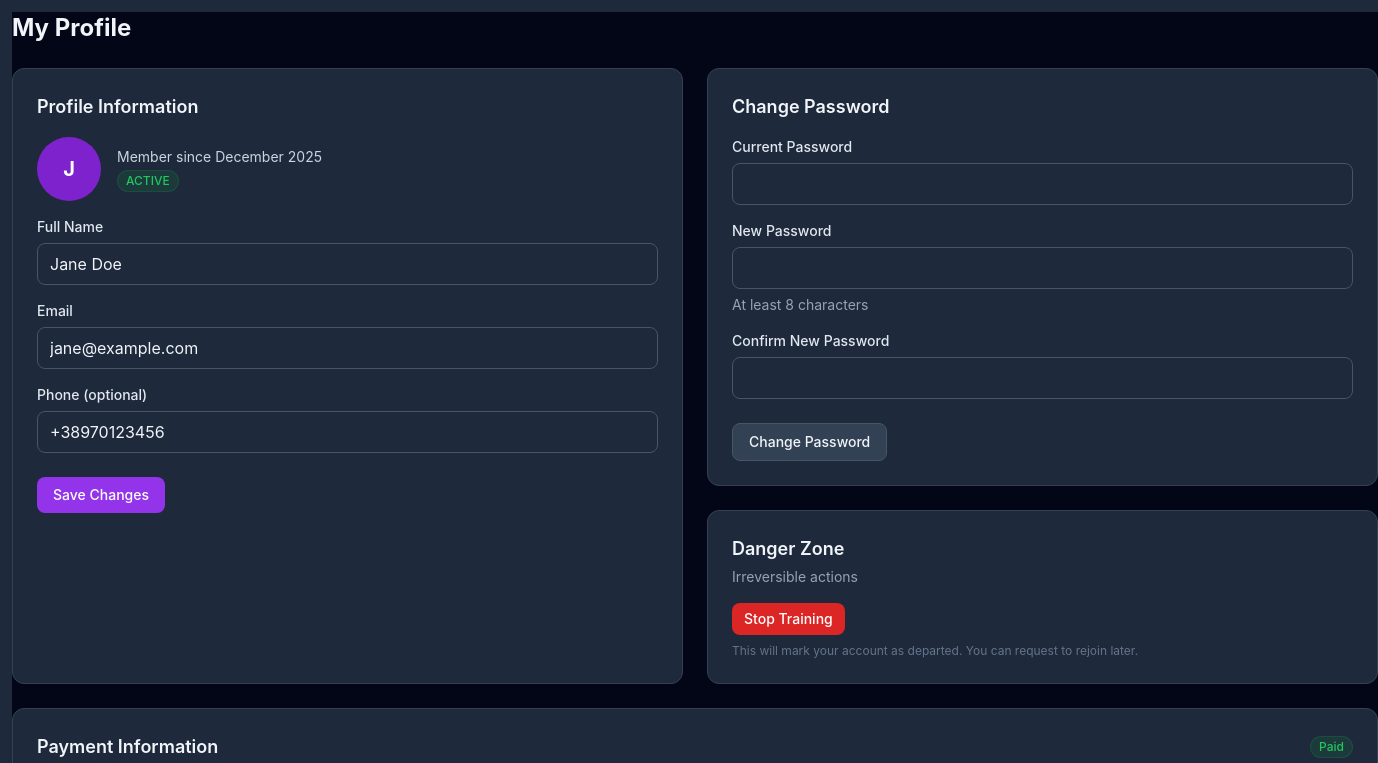
Test: ProfileClient › password change form › shows validation error when current password is empty
This screenshot has width=1378, height=763.
Step 1. Type "newpassword1" into the password field labelled "New Password" → (1042, 268), box top-left (732, 247), bottom-right (1353, 289)
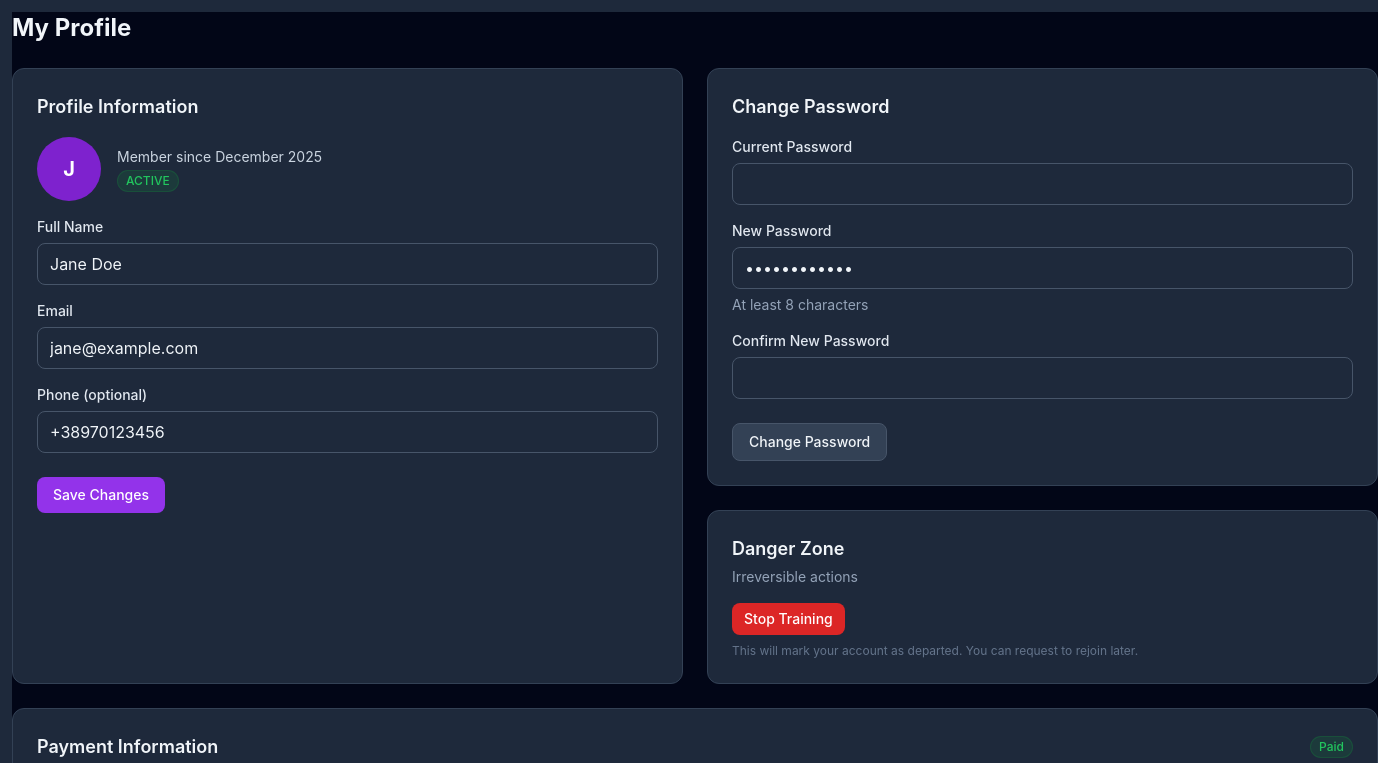
Step 2. Type "newpassword1" into the password field labelled "Confirm New Password" → (1042, 378), box top-left (732, 357), bottom-right (1353, 399)
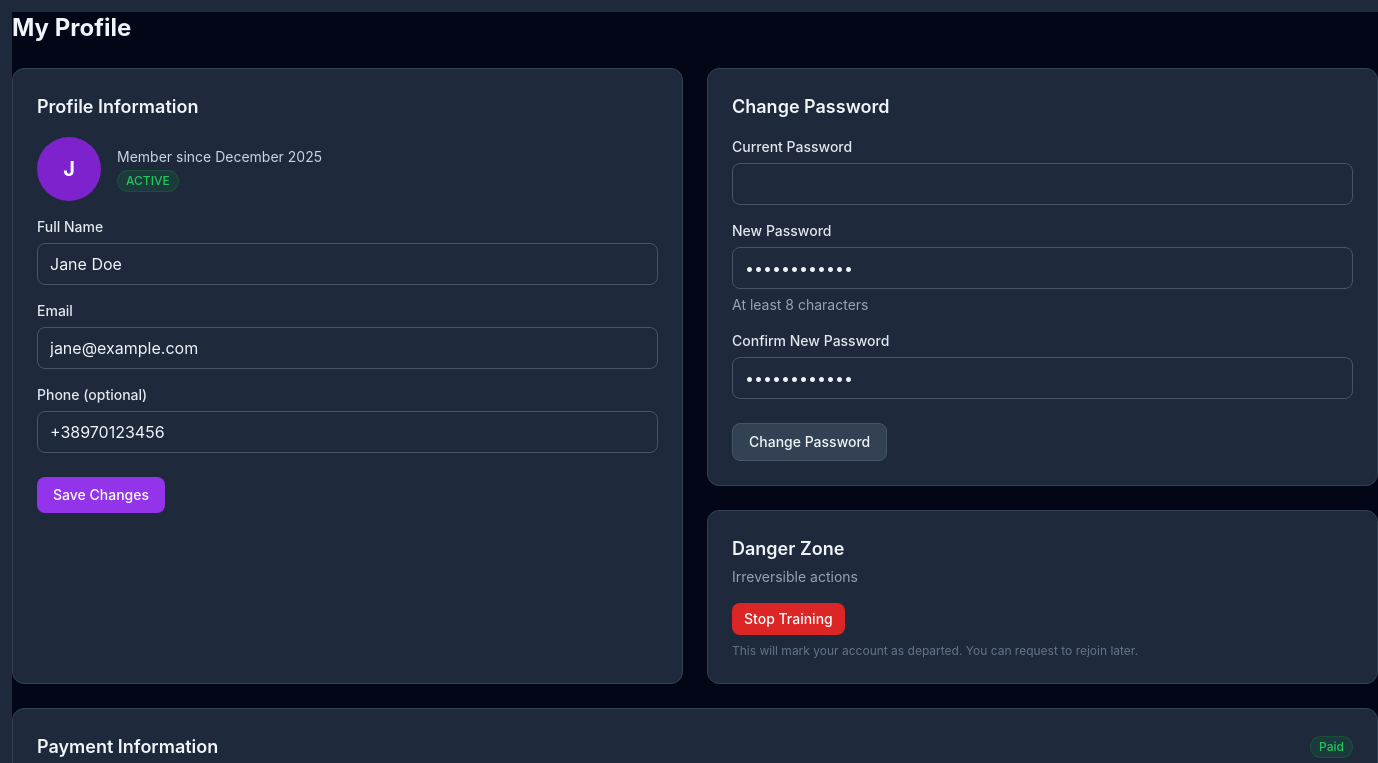
Step 3. Click the button "Change Password" → (810, 442), box top-left (732, 423), bottom-right (887, 461)
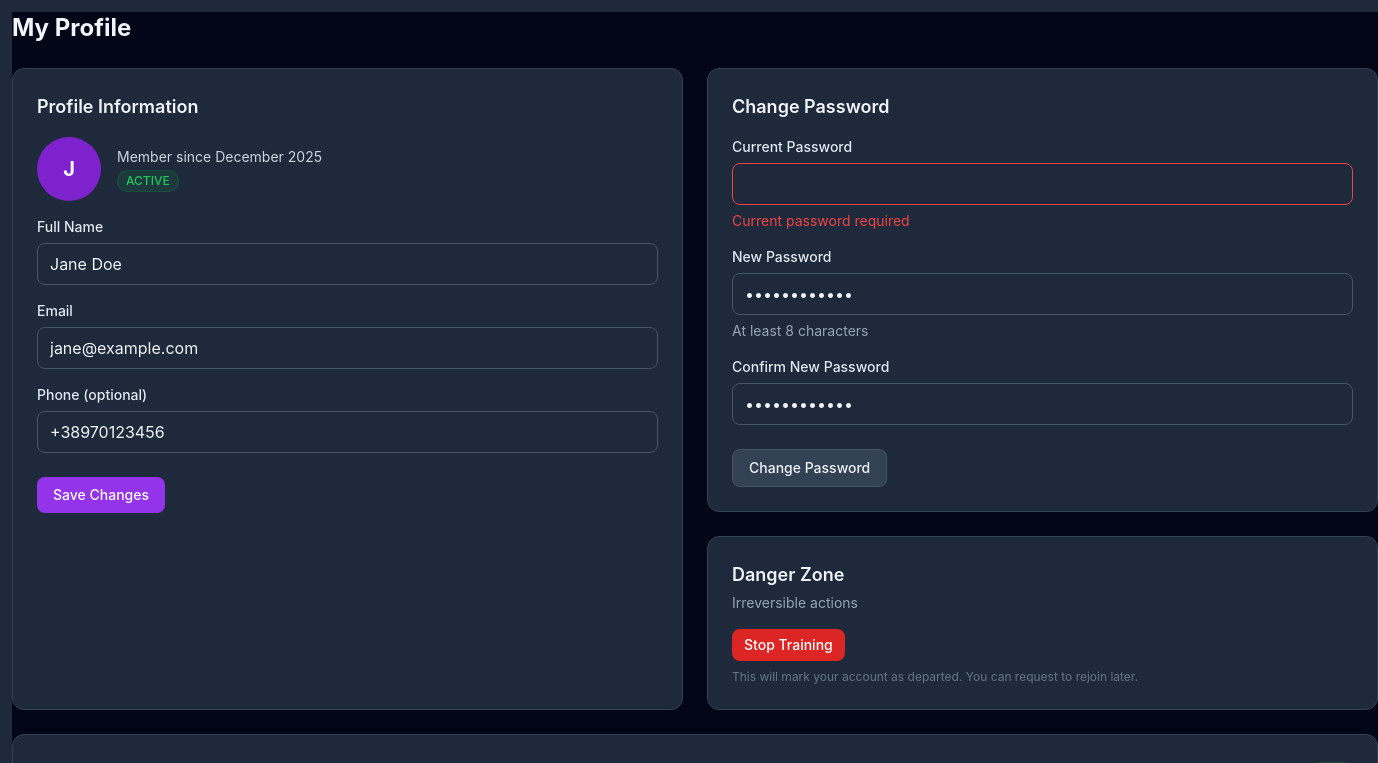
Check: the text "Current password required" is shown, box top-left (732, 212), bottom-right (910, 229)
